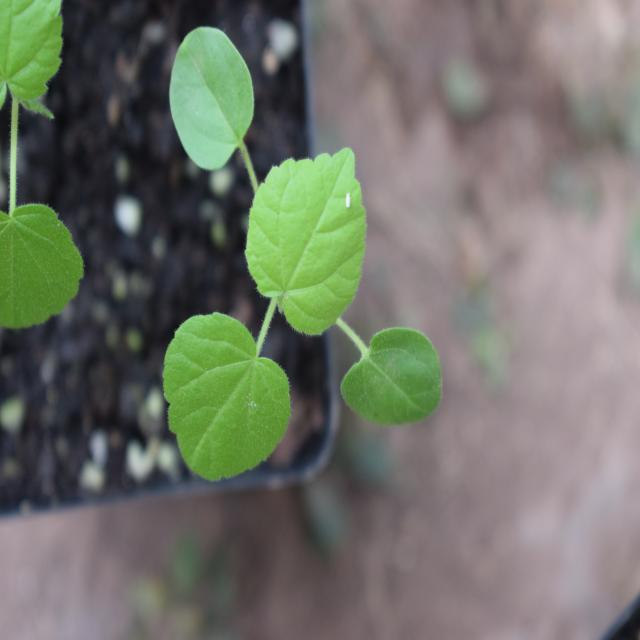abutilon theophrasti: (147, 32, 471, 560)
